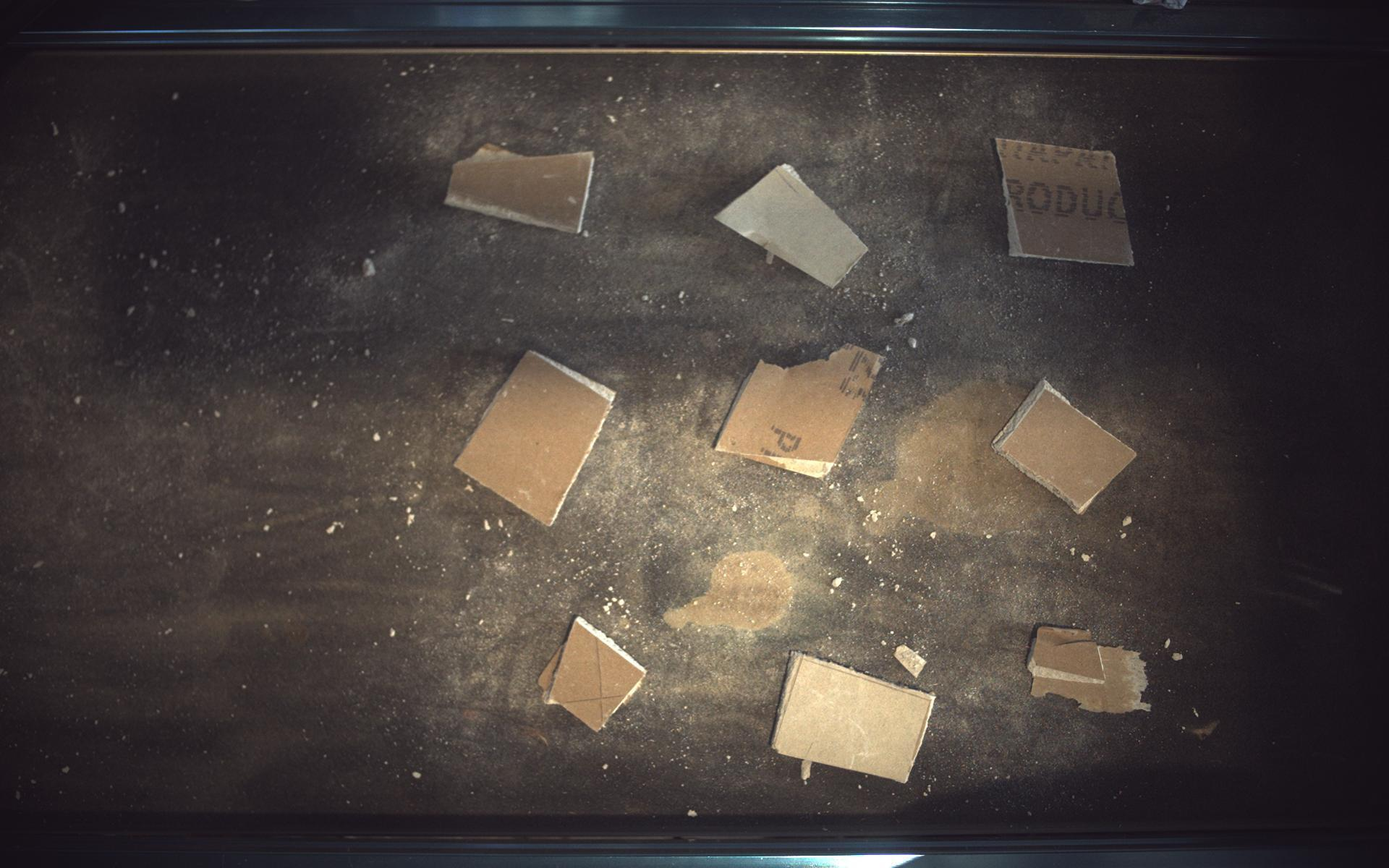gypsum_board: (454, 351, 616, 526), (715, 344, 886, 478), (773, 653, 937, 784), (994, 378, 1139, 514), (718, 164, 869, 287), (998, 138, 1137, 265), (446, 142, 595, 233), (538, 617, 647, 732), (1029, 626, 1153, 715)
